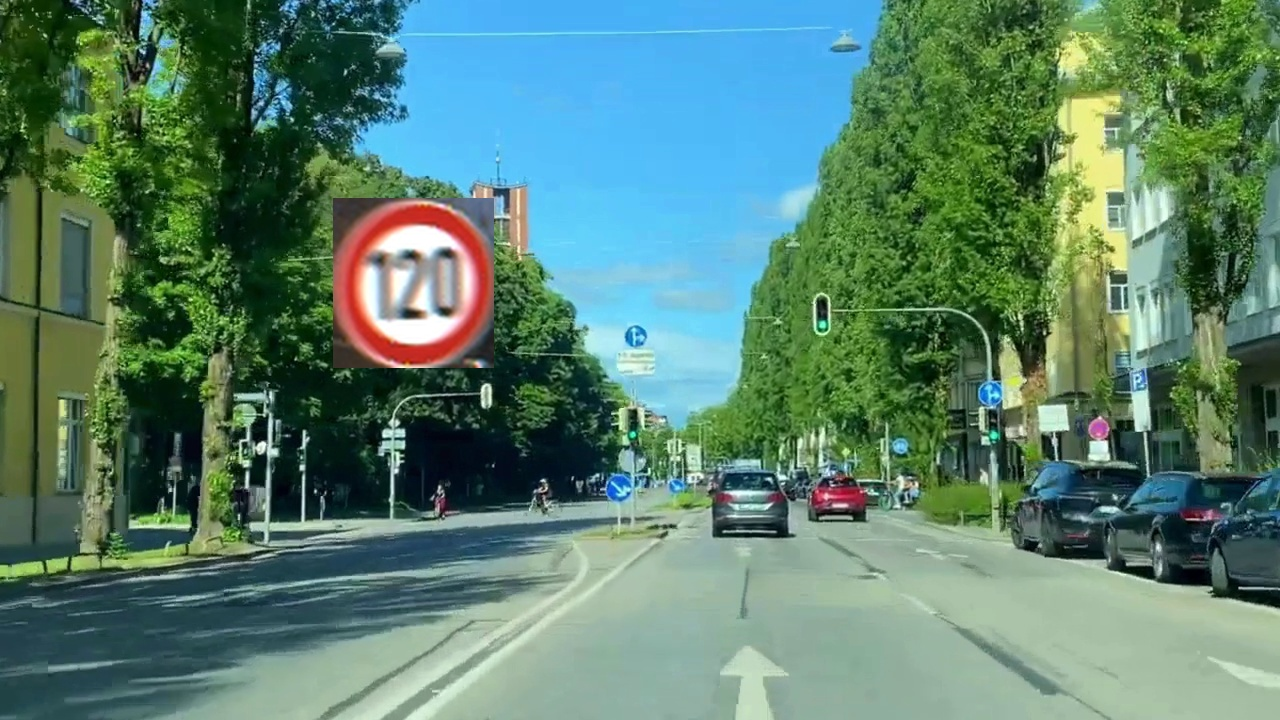Speed 120: (333, 198, 494, 368)
